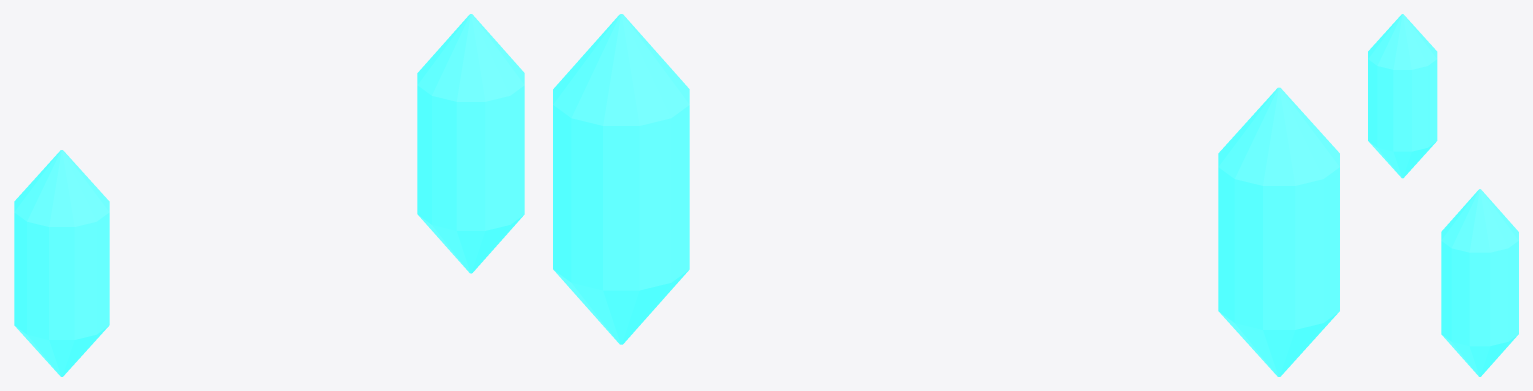
The model's file is Nature_SailTree_GlowSeedpods.glb.
3 renders of one model, left to right at view 1: azimuth 30°, elevation 25°; view 2: azimuth 150°, elevation 25°; view 3: azimuth 270°, elevation 25°, orthographic. The views are drawn at different scales.
Parts seen in each view (by area): view 1: Nature_SailTree_GlowSeedpods; view 2: Nature_SailTree_GlowSeedpods; view 3: Nature_SailTree_GlowSeedpods.
Boxes of the visible parts, box(x1,y1,x2,y2) form: Nature_SailTree_GlowSeedpods: box(14, 14, 524, 376); Nature_SailTree_GlowSeedpods: box(553, 14, 1339, 376); Nature_SailTree_GlowSeedpods: box(1368, 14, 1518, 376).
Size of the model in its own units: 1.78 by 0.85 by 0.5844.
